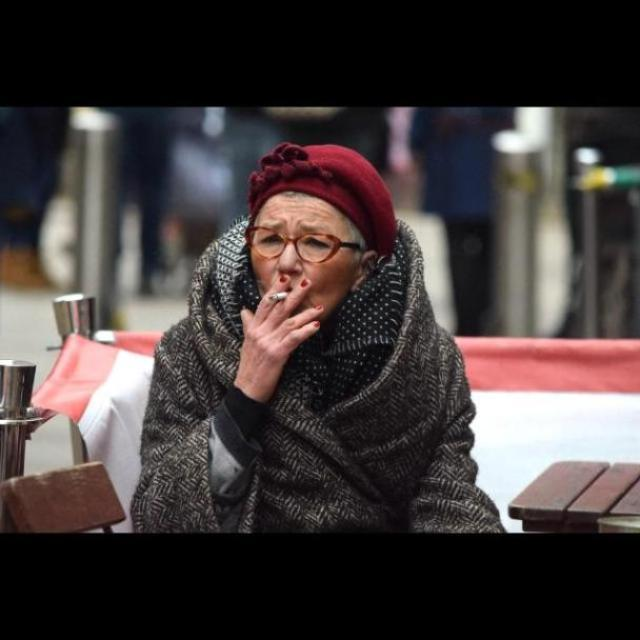rokok: (262, 286, 308, 300)
